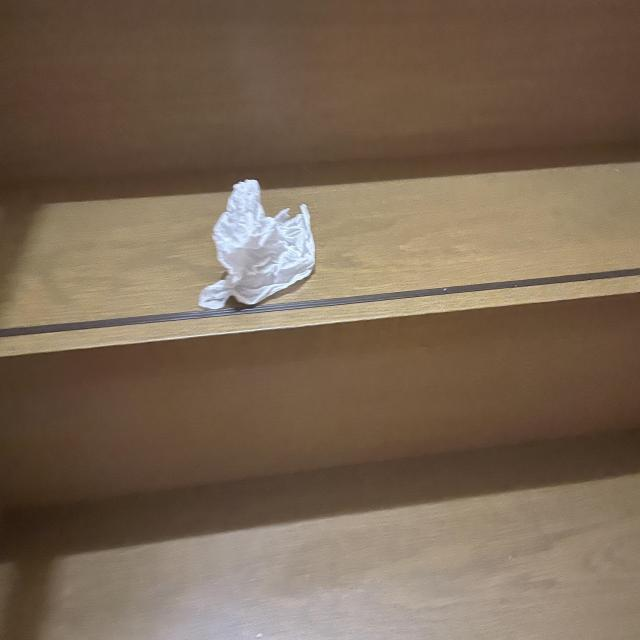Paper: (195, 174, 327, 313)
